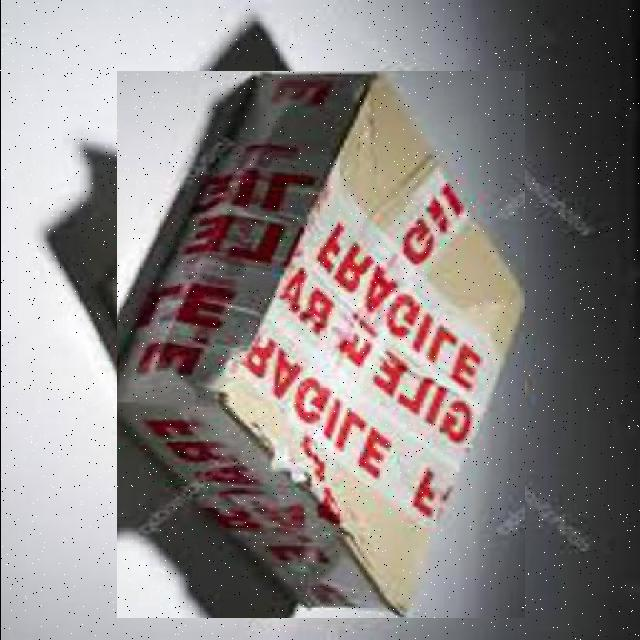defect: (116, 71, 524, 618)
